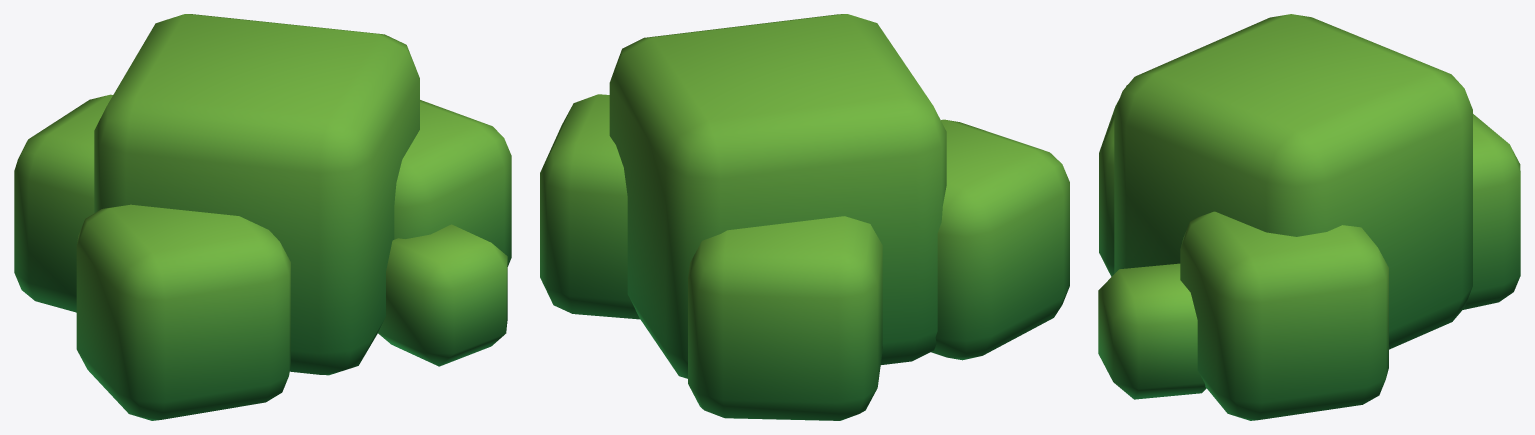
File: Bush2E.glb
3 renders of one model, left to right at view 1: azimuth 30°, elevation 25°; view 2: azimuth 150°, elevation 25°; view 3: azimuth 270°, elevation 25°, orthographic. The views are drawn at different scales.
Visible parts, largest first — view 1: Bush_2_E_Color1; view 2: Bush_2_E_Color1; view 3: Bush_2_E_Color1.
Boxes of the visible parts, x1,y1,x2,y2 form: Bush_2_E_Color1: (14, 14, 511, 420); Bush_2_E_Color1: (540, 14, 1069, 420); Bush_2_E_Color1: (1098, 14, 1520, 420).
Size of the model in its own units: 2.35 by 1.33 by 2.01.
1 material, 1 textured.
